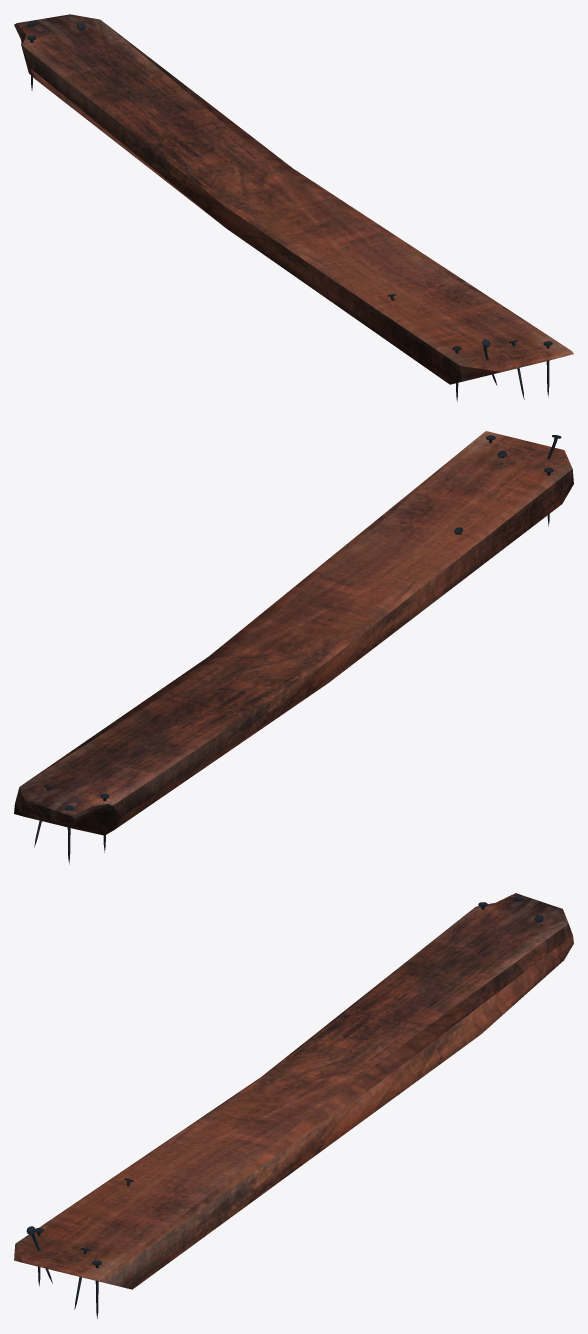
The model's file is table_waitroom_damaged01.dae.
3 renders of one model, top to bottom at view 1: azimuth 30°, elevation 25°; view 2: azimuth 150°, elevation 25°; view 3: azimuth 330°, elevation 25°, orthographic. The views are drawn at different scales.
Visible parts, largest first — view 1: polySurface287; view 2: polySurface287; view 3: polySurface287.
Part boxes in pixels (<box>): polySurface287: <box>14,14,573,401</box>; polySurface287: <box>14,431,573,864</box>; polySurface287: <box>14,893,573,1318</box>.
Size of the model in its own units: 23.72 by 17.7 by 201.
